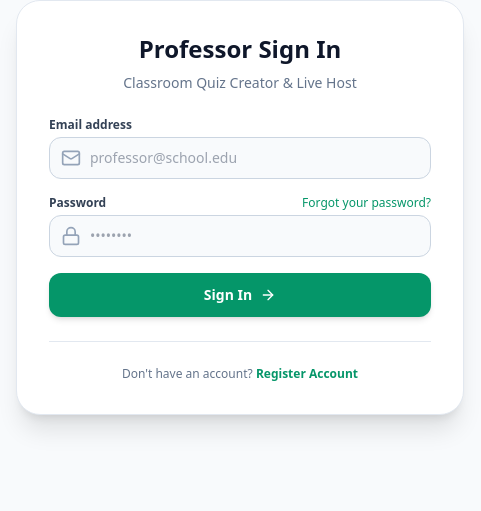
Test: Auth Components Tests › displays error in LoginForm on failed authentication
This screenshot has width=481, height=511.
Type "prof@school.edu" into the field with test id "login-email-input".
click(240, 158); type("prof@school.edu")  # box [49,137,431,179]
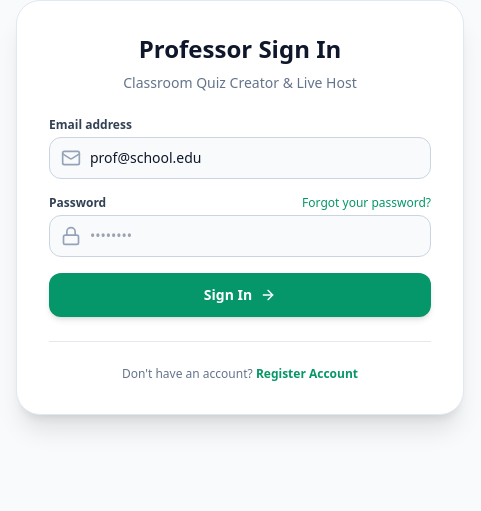
Type "wrong-password" into the password field with test id "login-password-input".
click(240, 236); type("wrong-password")  # box [49,215,431,257]
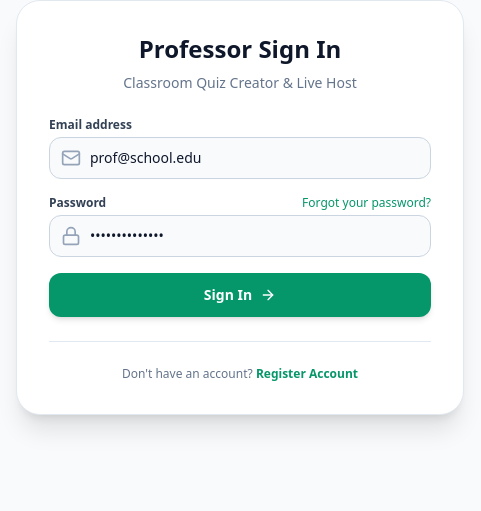
Click the button with test id "login-submit-button".
click(240, 295)  # box [49,273,431,317]
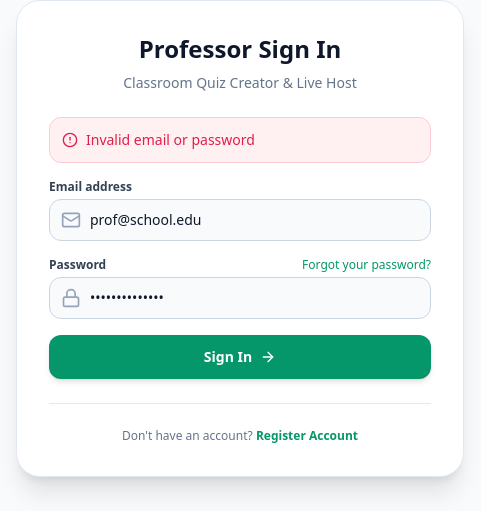
Check: the text "Invalid email or password" is shown, box [86,130,255,150]
